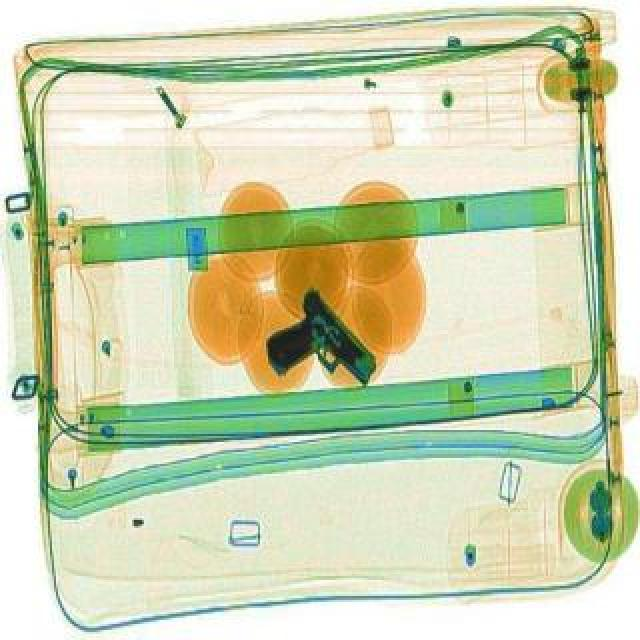gun: (244, 292, 392, 430)
